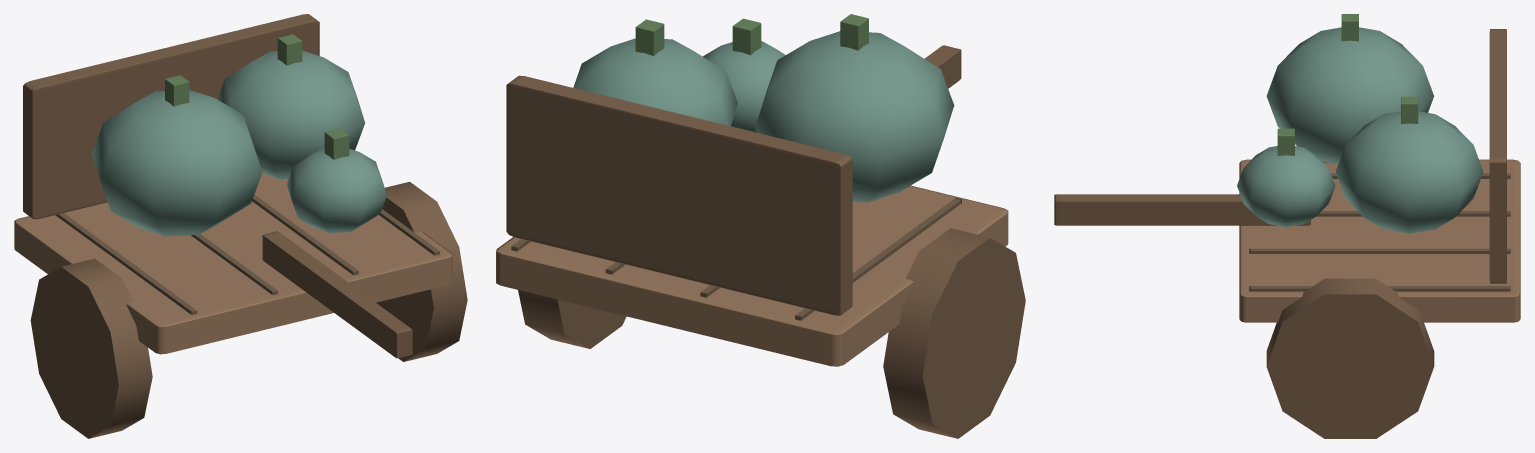
File: autumncart-1.glb
3 renders of one model, left to right at view 1: azimuth 30°, elevation 25°; view 2: azimuth 150°, elevation 25°; view 3: azimuth 270°, elevation 25°, orthographic. The views are drawn at different scales.
Parts seen in each view (by area): view 1: autumncart-1-0; view 2: autumncart-1-0; view 3: autumncart-1-0.
Part boxes in pixels (left/top/right/bottom): autumncart-1-0: left=14, top=14, right=467, bottom=438; autumncart-1-0: left=496, top=14, right=1025, bottom=438; autumncart-1-0: left=1054, top=14, right=1520, bottom=438.
Size of the model in its own units: 0.775 by 0.6877 by 0.945.
